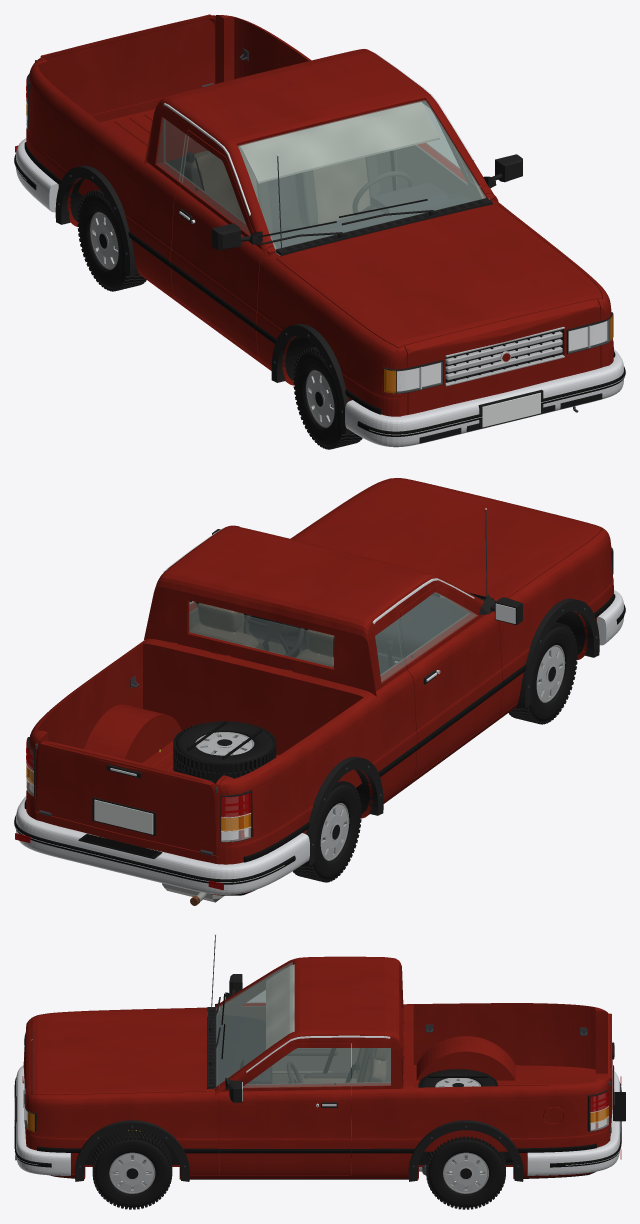
Rendered from picape_lida.glb.
3 renders of one model, top to bottom at view 1: azimuth 30°, elevation 25°; view 2: azimuth 150°, elevation 25°; view 3: azimuth 270°, elevation 25°, orthographic. The views are drawn at different scales.
Parts seen in each view (by area): view 1: picape_lida_pintura, picape_lida_capo_pintura, picape_lida_para_brisa_vidro, picape_lida_tampa_porta_malas_pintura, picape_lida_porta_dd_pintura, picape_lida_paralama_d_pintura, picape_lida_forro_teto, picape_lida_para_choque_d_cromado, picape_lida_plastico_preto, picape_lida_painel, picape_lida_plastico_prata, picape_lida_porta_dd_vidro (+28 smaller); view 2: picape_lida_pintura, picape_lida_capo_pintura, picape_lida_tampa_porta_malas_pintura, picape_lida_porta_dd_pintura, picape_lida_para_choque_t_cromado, picape_lida_paralama_d_pintura, picape_lida_vidro_traseiro_vidro, picape_lida_estepe_pneu, picape_lida_painel, picape_lida_porta_dd_vidro, picape_lida_roda_dd_pneu, picape_lida_roda_td_pneu (+16 smaller); view 3: picape_lida_pintura, picape_lida_capo_pintura, picape_lida_porta_de_pintura, picape_lida_paralama_e_pintura, picape_lida_para_brisa_vidro, picape_lida_roda_de_pneu, picape_lida_roda_te_pneu, picape_lida_porta_de_vidro, picape_lida_painel, picape_lida_plastico_preto, picape_lida_para_choque_t_cromado, picape_lida_porta_dd_forro_porta (+16 smaller).
Part boxes in pixels (left/top/right/bottom): picape_lida_pintura: left=26, top=15, right=600, bottom=414; picape_lida_capo_pintura: left=276, top=204, right=602, bottom=348; picape_lida_para_brisa_vidro: left=238, top=100, right=489, bottom=251; picape_lida_tampa_porta_malas_pintura: left=38, top=14, right=223, bottom=115; picape_lida_porta_dd_pintura: left=171, top=130, right=273, bottom=358; picape_lida_paralama_d_pintura: left=256, top=246, right=407, bottom=416; picape_lida_forro_teto: left=239, top=102, right=439, bottom=183; picape_lida_para_choque_d_cromado: left=345, top=349, right=625, bottom=447; picape_lida_plastico_preto: left=55, top=151, right=561, bottom=382; picape_lida_painel: left=271, top=182, right=473, bottom=248; picape_lida_plastico_prata: left=445, top=326, right=564, bottom=386; picape_lida_porta_dd_vidro: left=182, top=136, right=250, bottom=234; picape_lida_pintura: left=26, top=479, right=594, bottom=895; picape_lida_capo_pintura: left=293, top=478, right=602, bottom=600; picape_lida_tampa_porta_malas_pintura: left=35, top=733, right=223, bottom=855; picape_lida_porta_dd_pintura: left=399, top=584, right=502, bottom=778; picape_lida_para_choque_t_cromado: left=14, top=796, right=309, bottom=894; picape_lida_paralama_d_pintura: left=493, top=526, right=613, bottom=715; picape_lida_vidro_traseiro_vidro: left=189, top=602, right=332, bottom=666; picape_lida_estepe_pneu: left=173, top=721, right=276, bottom=783; picape_lida_painel: left=244, top=595, right=467, bottom=658; picape_lida_porta_dd_vidro: left=399, top=592, right=477, bottom=665; picape_lida_roda_dd_pneu: left=509, top=622, right=577, bottom=724; picape_lida_roda_td_pneu: left=293, top=781, right=361, bottom=882; picape_lida_pintura: left=22, top=956, right=612, bottom=1179; picape_lida_capo_pintura: left=32, top=1007, right=206, bottom=1094; picape_lida_porta_de_pintura: left=219, top=1043, right=350, bottom=1174; picape_lida_paralama_e_pintura: left=26, top=1085, right=218, bottom=1174; picape_lida_para_brisa_vidro: left=216, top=962, right=292, bottom=1086; picape_lida_roda_de_pneu: left=92, top=1130, right=172, bottom=1209; picape_lida_roda_te_pneu: left=426, top=1136, right=505, bottom=1209; picape_lida_porta_de_vidro: left=243, top=1048, right=350, bottom=1087; picape_lida_painel: left=207, top=1011, right=272, bottom=1152; picape_lida_plastico_preto: left=31, top=997, right=523, bottom=1181; picape_lida_para_choque_t_cromado: left=527, top=1070, right=621, bottom=1175; picape_lida_porta_dd_forro_porta: left=219, top=982, right=350, bottom=1083.
Bounding box in the file's own units: 2.08 × 1.62 × 4.68.
Materials: 45 (7 with a texture image).
